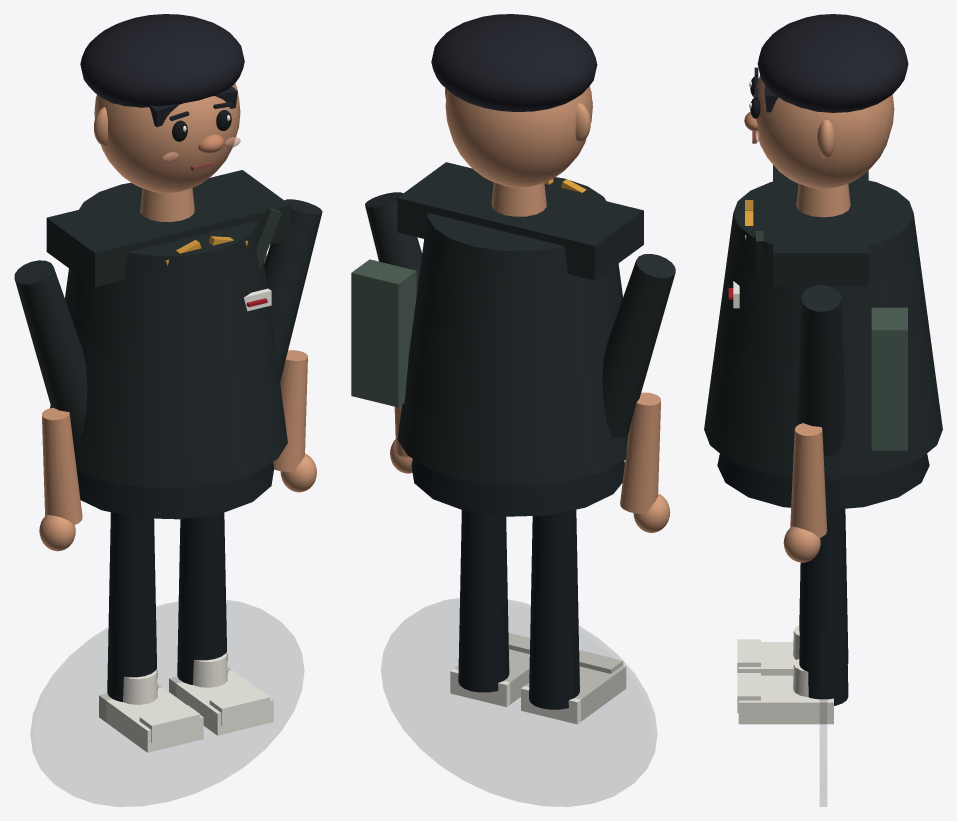
File: player_male_black.glb
3 renders of one model, left to right at view 1: azimuth 30°, elevation 25°; view 2: azimuth 150°, elevation 25°; view 3: azimuth 270°, elevation 25°, orthographic. The views are drawn at different scales.
Visible parts, largest first — view 1: torso, contact_shadow, hair_cap, shoulder_line, head, leg_-0.075, leg_0.075, upper_arm_-0.235, hip, upper_arm_0.235, forearm_-0.235, shoe_-0.075 (+10 smaller); view 2: torso, contact_shadow, hair_cap, shoulder_line, leg_-0.075, head, leg_0.075, shoulder_bag, upper_arm_-0.235, hip, forearm_-0.235, upper_arm_0.235 (+5 smaller); view 3: torso, hair_cap, head, shoulder_line, leg_0.075, upper_arm_0.235, shoulder_bag, hip, forearm_0.235, shoe_0.075, neck, shoe_-0.075 (+6 smaller).
Boxes of the visible parts, left/top/right/bottom form: torso: left=50, top=183, right=287, bottom=488; contact_shadow: left=31, top=600, right=303, bottom=806; hair_cap: left=80, top=14, right=244, bottom=107; shoulder_line: left=46, top=170, right=290, bottom=287; head: left=94, top=84, right=240, bottom=193; leg_-0.075: left=107, top=512, right=157, bottom=701; leg_0.075: left=177, top=513, right=227, bottom=684; upper_arm_-0.235: left=14, top=260, right=87, bottom=443; hip: left=77, top=462, right=274, bottom=519; upper_arm_0.235: left=264, top=199, right=322, bottom=381; forearm_-0.235: left=42, top=407, right=82, bottom=525; shoe_-0.075: left=99, top=683, right=203, bottom=752; torso: left=397, top=177, right=628, bottom=485; contact_shadow: left=381, top=598, right=656, bottom=806; hair_cap: left=431, top=14, right=597, bottom=111; shoulder_line: left=397, top=162, right=643, bottom=280; leg_-0.075: left=529, top=509, right=579, bottom=709; head: left=445, top=86, right=592, bottom=187; leg_0.075: left=458, top=510, right=509, bottom=692; shoulder_bag: left=351, top=259, right=416, bottom=407; upper_arm_-0.235: left=602, top=254, right=675, bottom=438; hip: left=411, top=459, right=624, bottom=516; forearm_-0.235: left=620, top=392, right=660, bottom=513; upper_arm_0.235: left=365, top=192, right=422, bottom=293; torso: left=704, top=180, right=942, bottom=479; hair_cap: left=757, top=14, right=908, bottom=112; head: left=753, top=75, right=894, bottom=188; shoulder_line: left=773, top=165, right=868, bottom=286; leg_0.075: left=799, top=508, right=848, bottom=705; upper_arm_0.235: left=797, top=285, right=845, bottom=456; shoulder_bag: left=871, top=307, right=907, bottom=450; hip: left=717, top=454, right=929, bottom=510; forearm_0.235: left=790, top=423, right=827, bottom=537; shoe_0.075: left=738, top=675, right=833, bottom=724; neck: left=796, top=184, right=850, bottom=217; shoe_-0.075: left=738, top=642, right=796, bottom=675.
Bounding box in the file's own units: 0.675 × 1.64 × 0.468.
